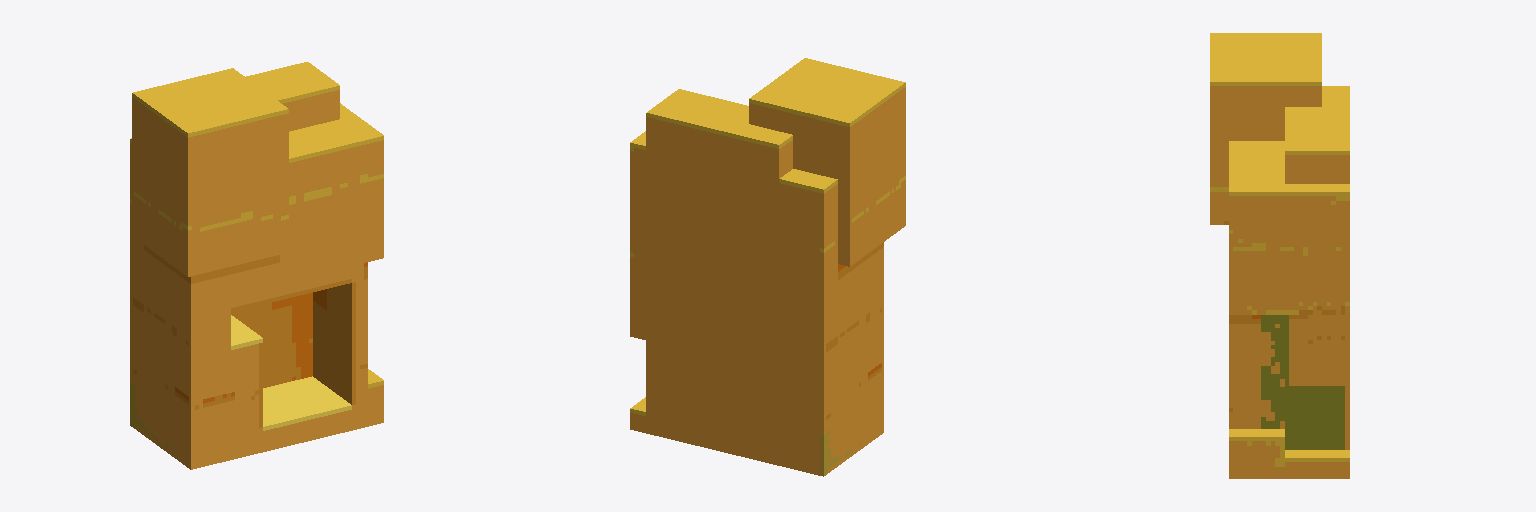
The picture shows the model from 3 angles: view 1: azimuth 30°, elevation 25°; view 2: azimuth 150°, elevation 25°; view 3: azimuth 270°, elevation 25°; orthographic projection.
Bounding box in the file's own units: 51 × 82 × 30.
1 materials, 1 textured.